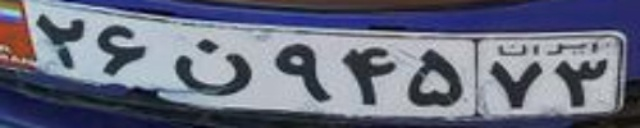2: (32, 15, 84, 71)
3: (552, 58, 613, 108)
4: (342, 45, 393, 105)
5: (404, 48, 466, 107)
6: (94, 22, 147, 76)
7: (484, 60, 543, 109)
9: (269, 43, 330, 103)
non: (170, 37, 252, 96)
